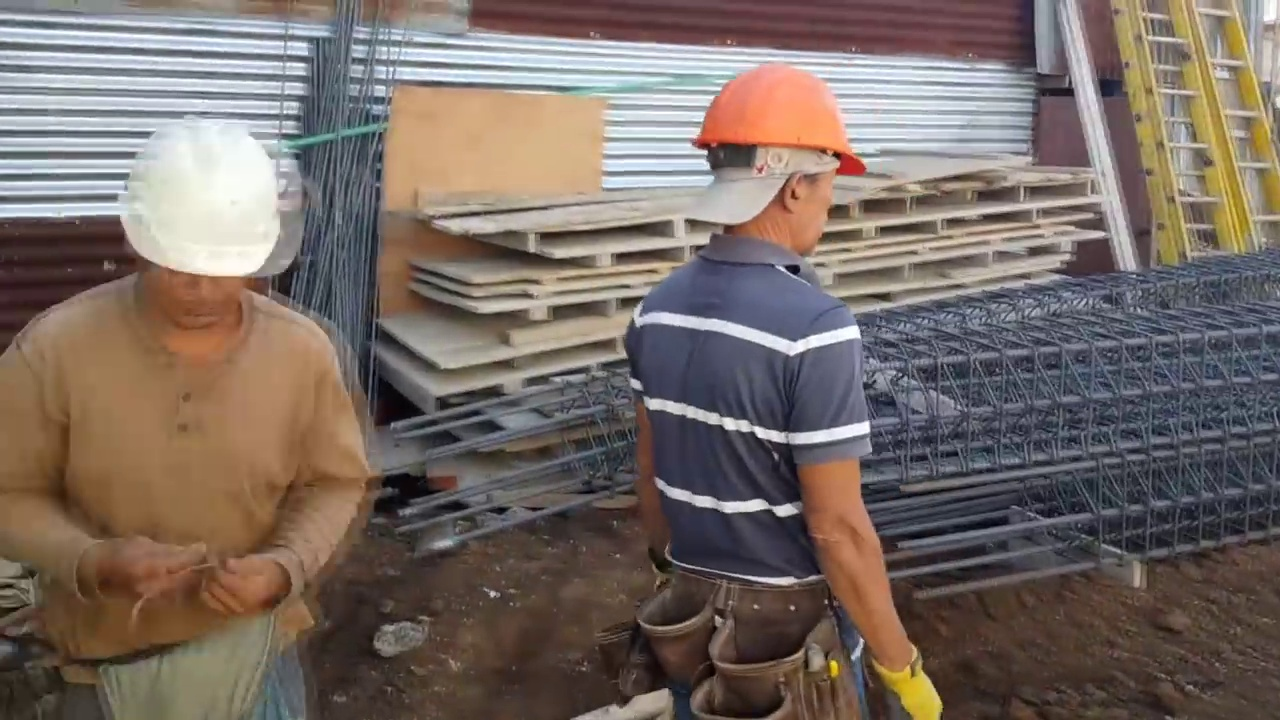helmet: (122, 126, 293, 273), (687, 61, 868, 191)
helmet-on: (112, 123, 297, 372), (685, 62, 874, 282)
person: (12, 82, 374, 709), (626, 44, 957, 720)
